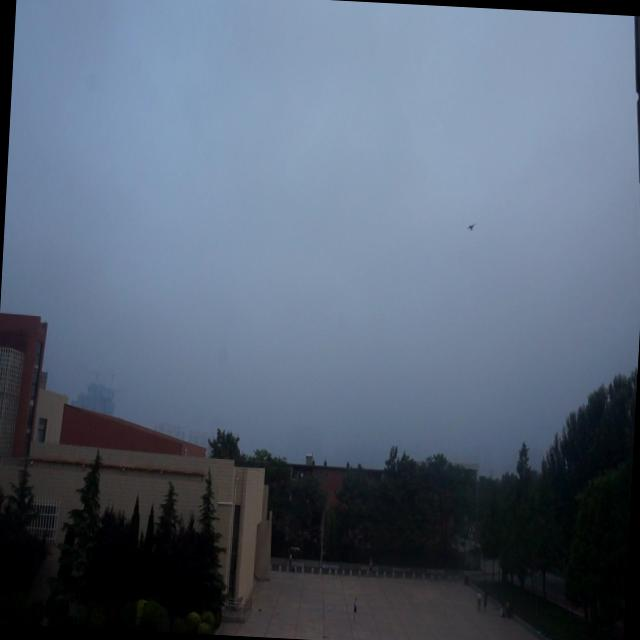drone: (466, 217, 477, 235)
